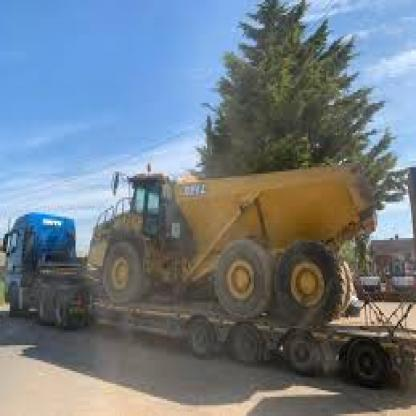dump_truck: (84, 150, 382, 320), (3, 204, 93, 328)
